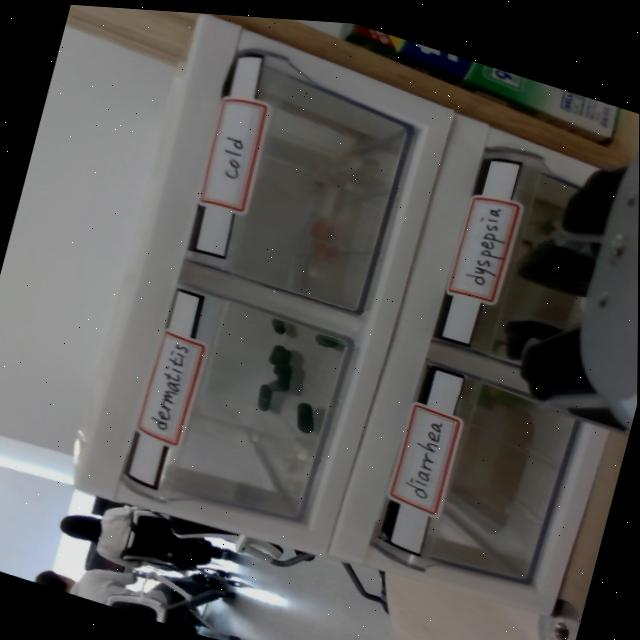text: (142, 333, 197, 435), (455, 196, 511, 291), (395, 410, 450, 504), (210, 129, 250, 187)
